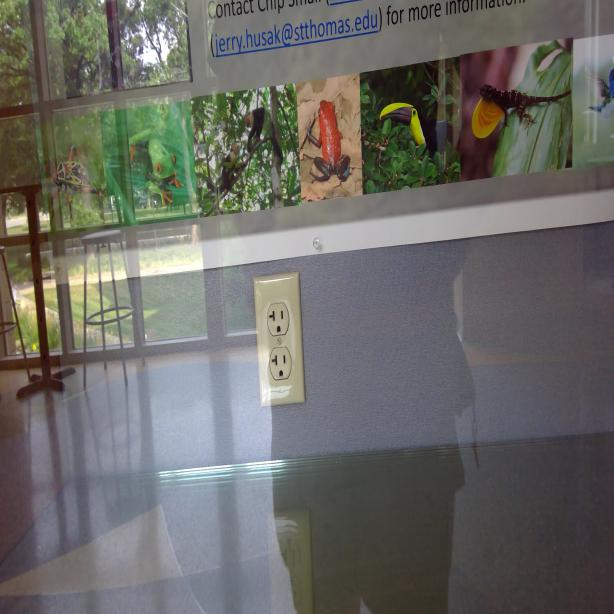typeb: (266, 306, 287, 334), (271, 350, 290, 378)
